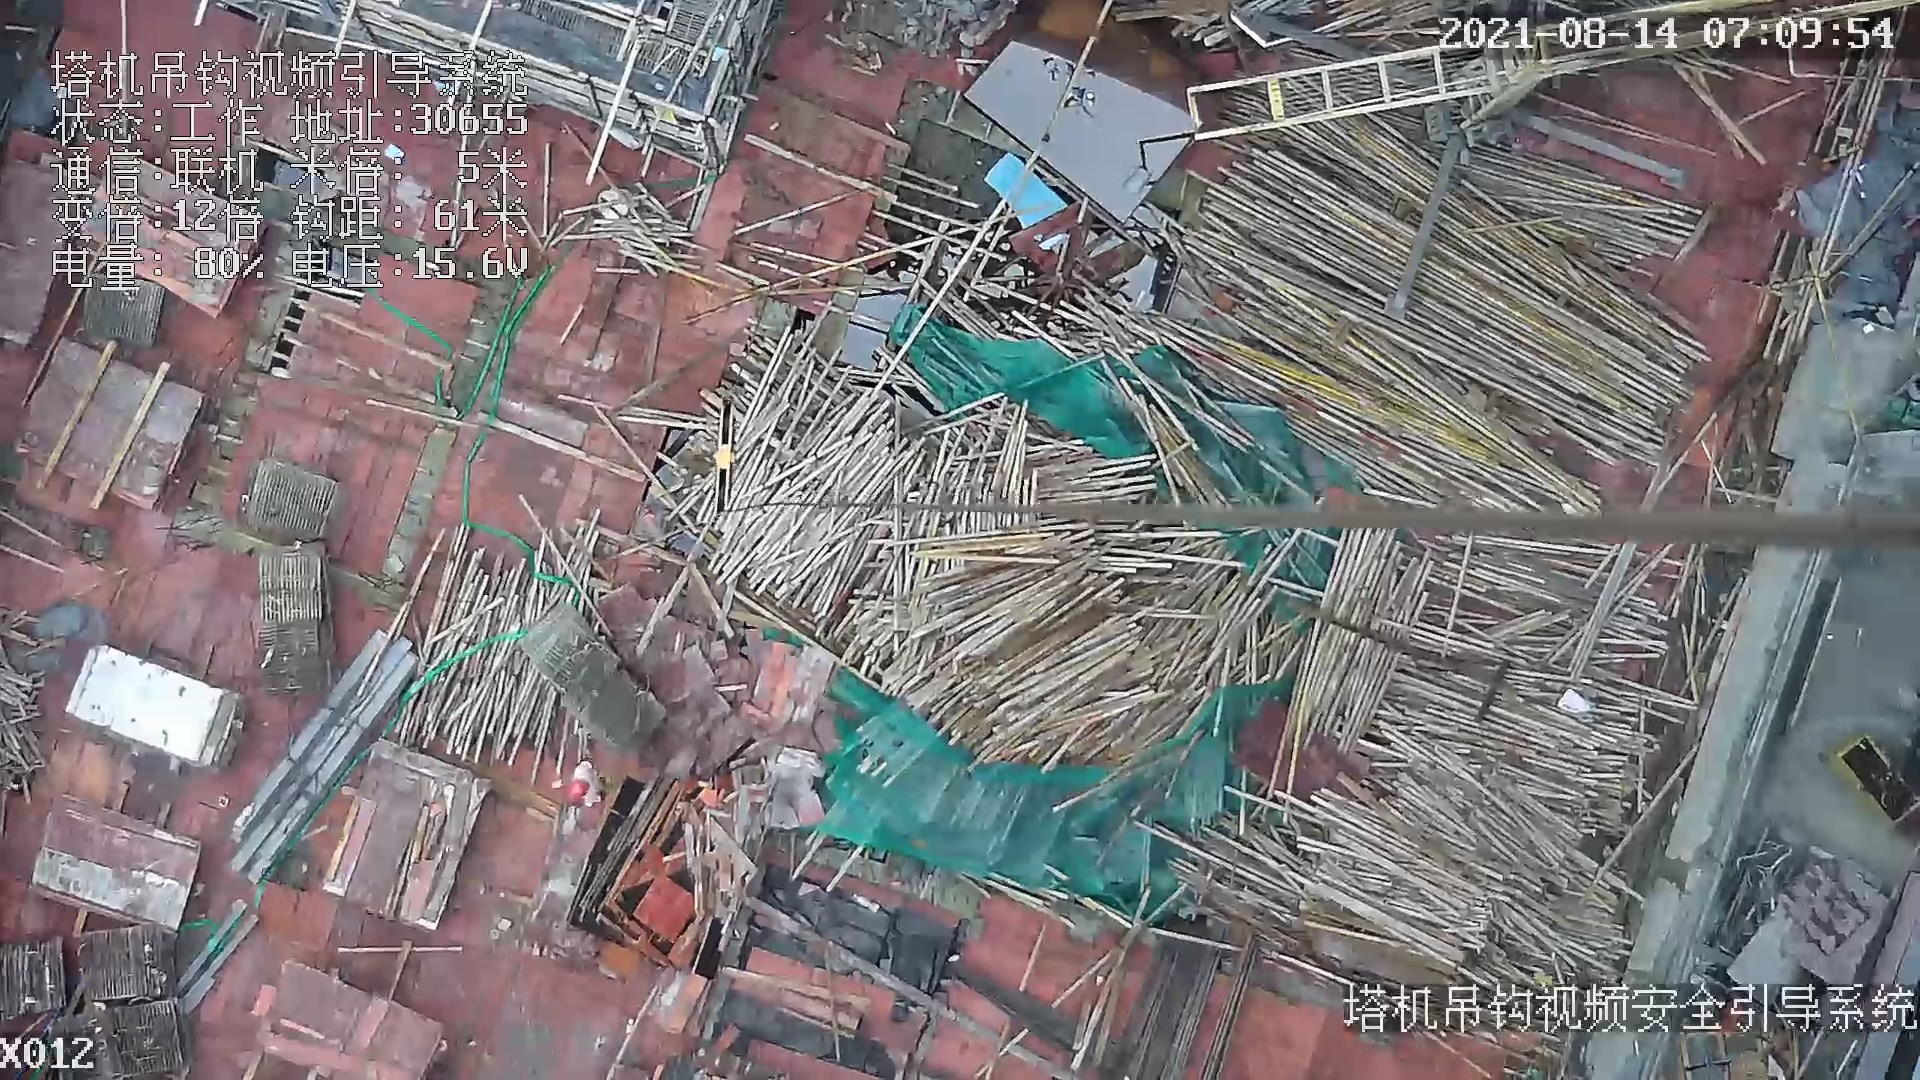helmet: (567, 777, 590, 799)
hook: (706, 394, 742, 522)
person: (551, 759, 605, 823)
